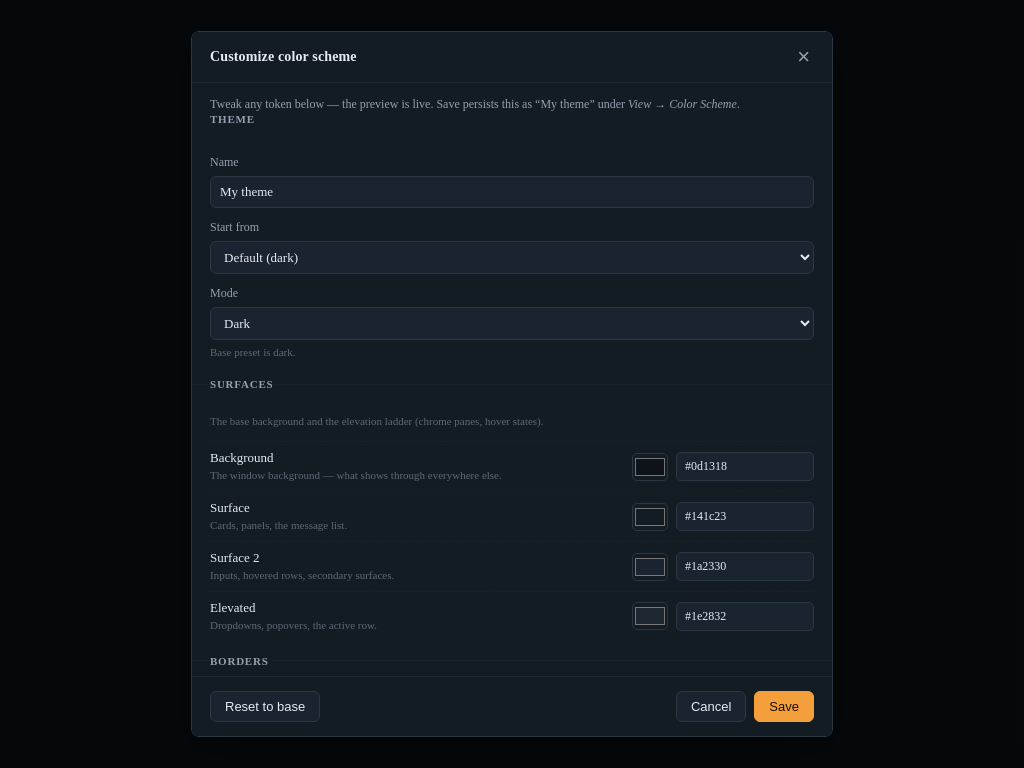
Test case: ThemeDesigner — base picker › re-seeds from the Office dark bundled snapshot
Select "Office dark" in the dropdown with test id "theme-designer-base" at (512, 258), box [210,241,814,274]
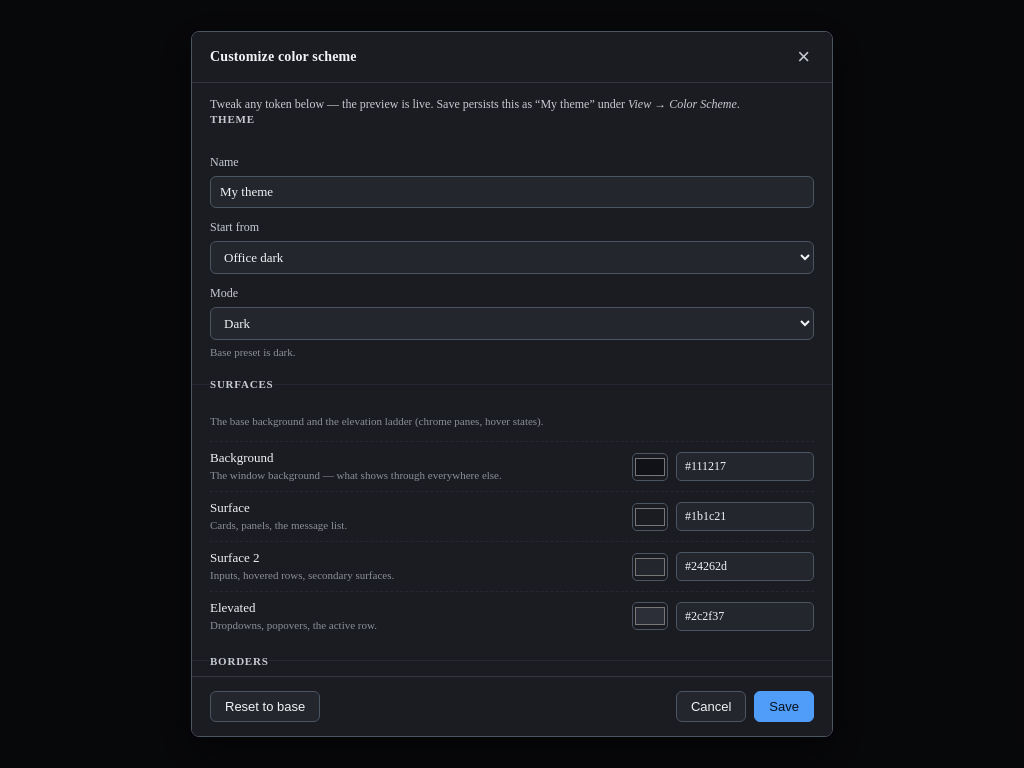
Expected: the dropdown with test id "theme-designer-mode" shows "Dark", [210,307,814,340]
Expected: the field with test id "theme-designer-text-bg" holds "#111217", [676,452,814,481]
